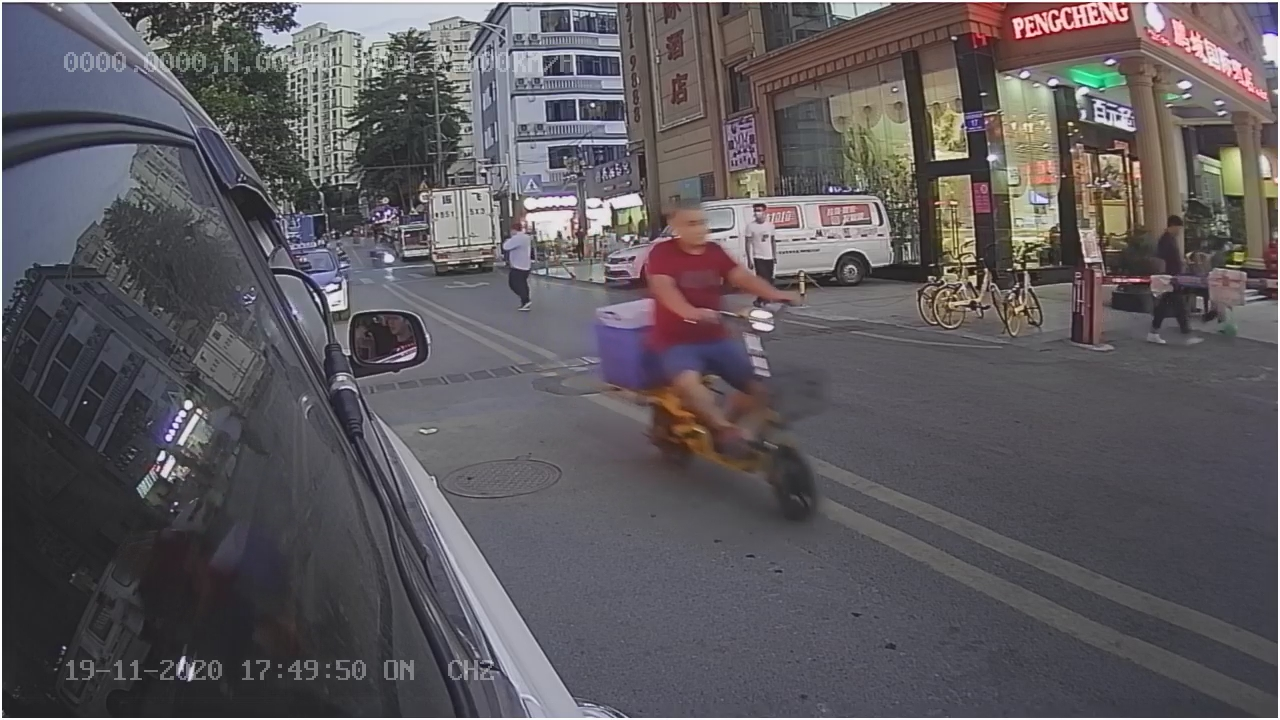person: (638, 201, 736, 336)
